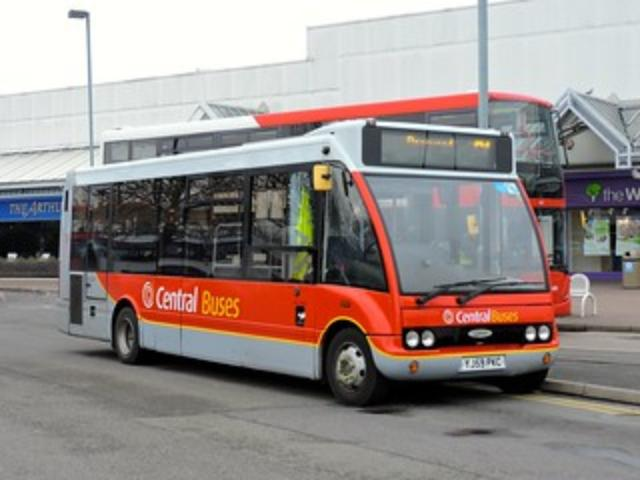bus: (58, 116, 558, 404)
